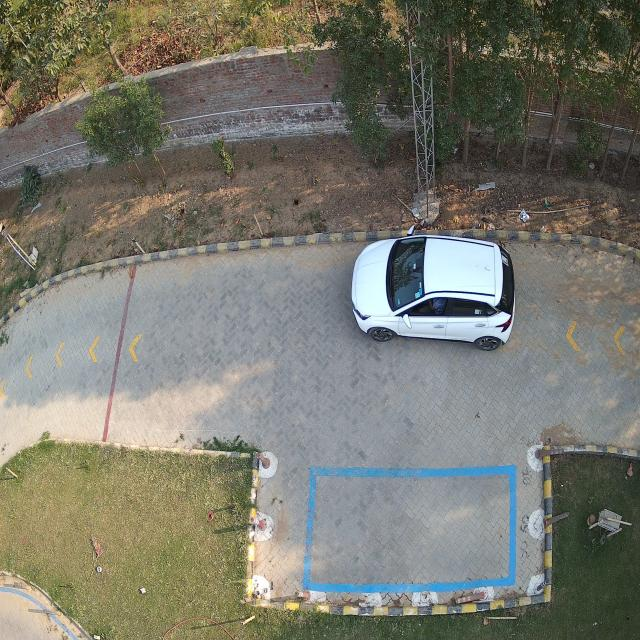car: (351, 235, 515, 350)
